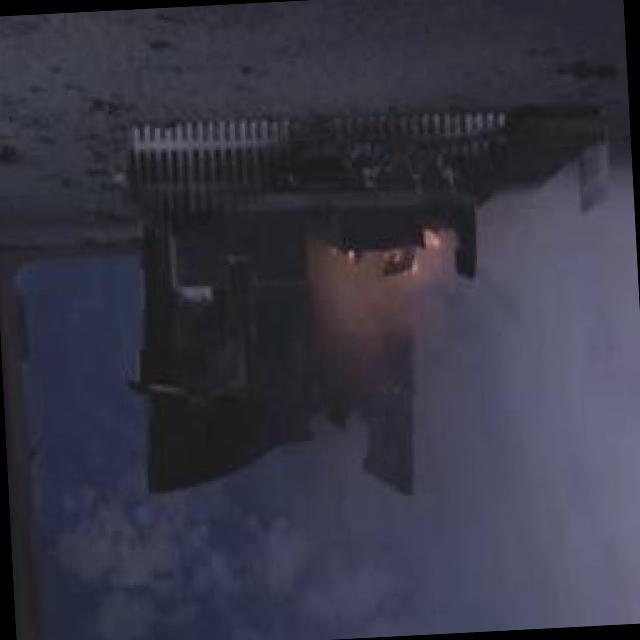smoke: (333, 264, 640, 637)
